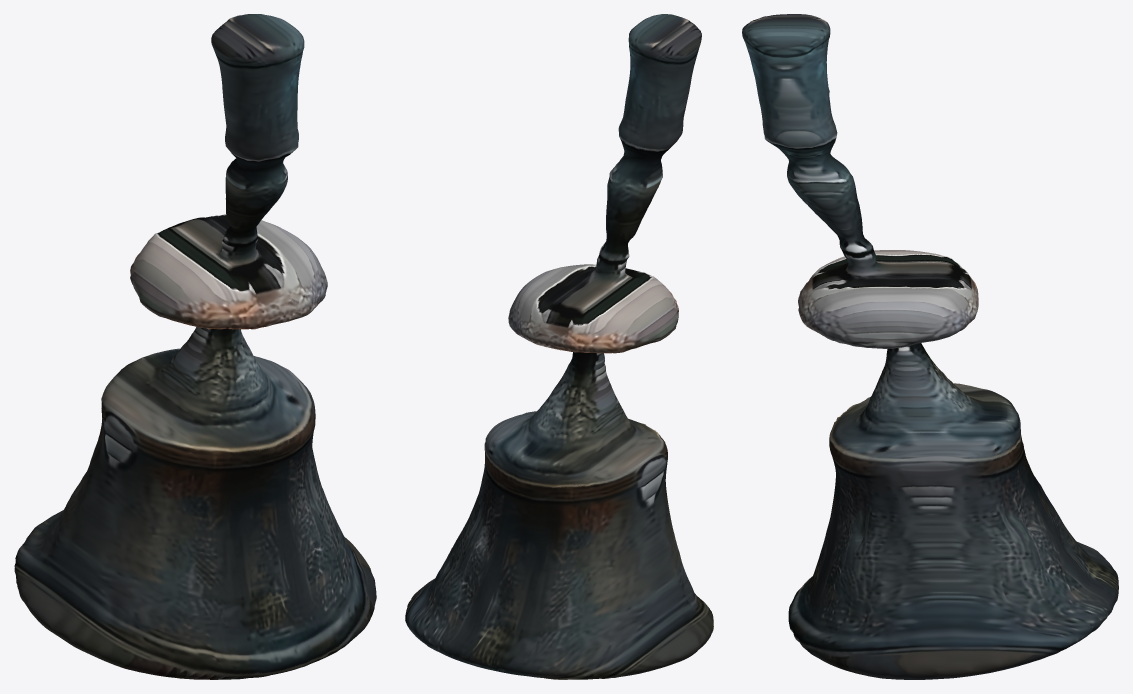
File: kfl-2151.glb
3 views of the same model, side by side, from view 1: azimuth 30°, elevation 25°; view 2: azimuth 150°, elevation 25°; view 3: azimuth 270°, elevation 25° (orthographic). The views are drawn at different scales.
Parts seen in each view (by area): view 1: kfl-2151; view 2: kfl-2151; view 3: kfl-2151.
Part boxes in pixels (left/top/right/bottom): kfl-2151: left=14, top=14, right=376, bottom=679; kfl-2151: left=405, top=14, right=713, bottom=679; kfl-2151: left=742, top=14, right=1118, bottom=679.
Bounding box in the file's own units: 0.4919 × 0.9989 × 0.5729.
1 material, 1 textured.
